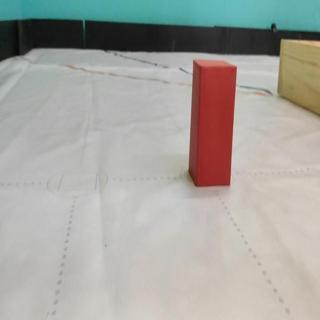redbox: (189, 57, 238, 187)
